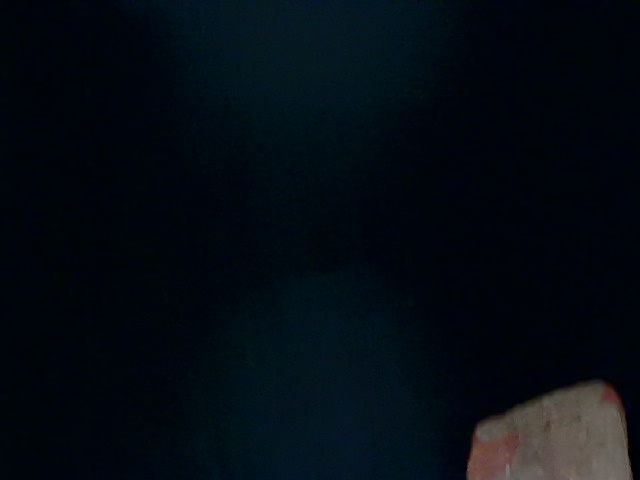KHSLJ: (126, 373, 435, 480)
